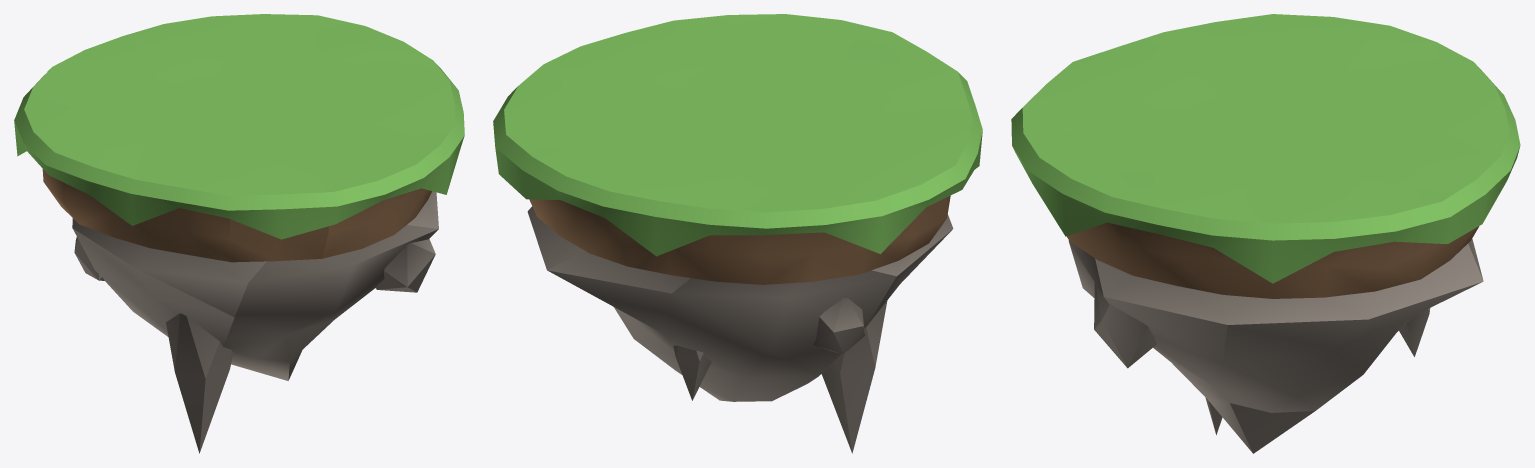
Rendered from island-2.glb.
The picture shows the model from 3 angles, left to right: view 1: azimuth 30°, elevation 25°; view 2: azimuth 150°, elevation 25°; view 3: azimuth 270°, elevation 25°; orthographic projection. The views are drawn at different scales.
Visible parts, largest first — view 1: island; view 2: island; view 3: island.
Boxes of the visible parts, x1,y1,x2,y2 form: island: [14, 14, 464, 453]; island: [493, 14, 982, 453]; island: [1011, 14, 1520, 453].
Size of the model in its own units: 2.12 by 1.61 by 2.08.
